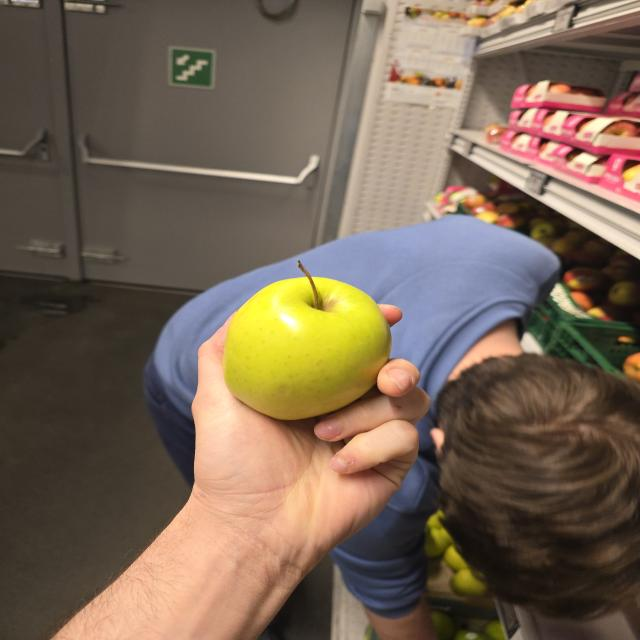Apple: (223, 271, 390, 419)
